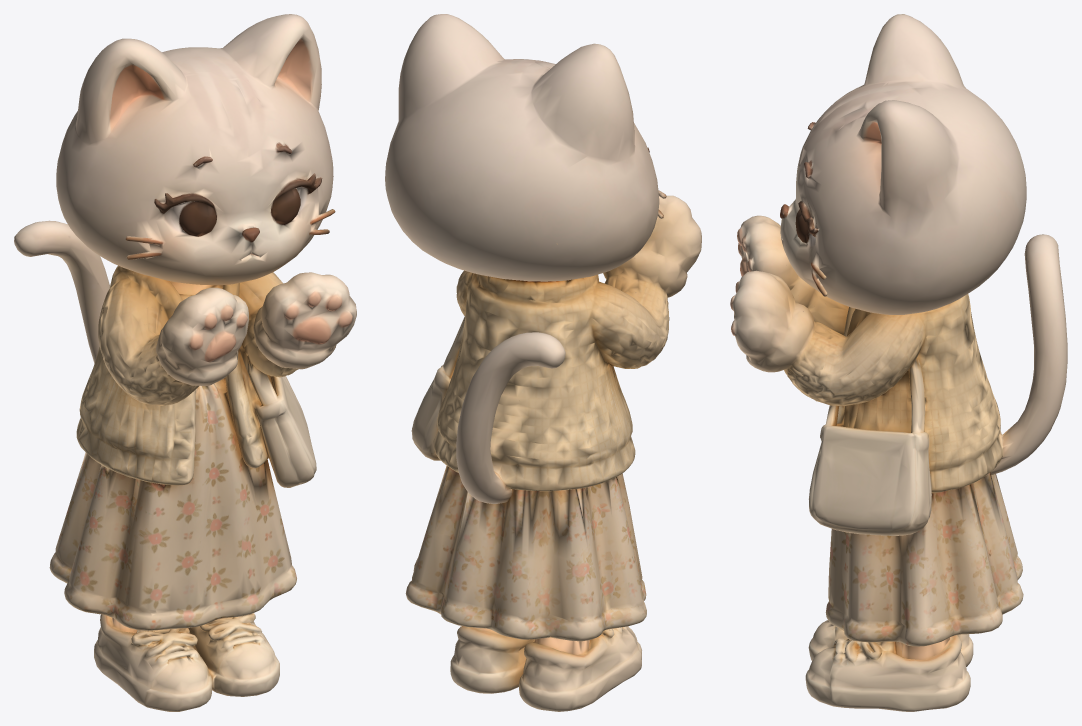
File: figurine-1.glb
3 views of the same model, side by side, from view 1: azimuth 30°, elevation 25°; view 2: azimuth 150°, elevation 25°; view 3: azimuth 270°, elevation 25° (orthographic).
Parts seen in each view (by area): view 1: tripo_node_0ba3c5d6-4391-4fe8-a821-21649a975f2e; view 2: tripo_node_0ba3c5d6-4391-4fe8-a821-21649a975f2e; view 3: tripo_node_0ba3c5d6-4391-4fe8-a821-21649a975f2e.
Boxes of the visible parts, <box> form: tripo_node_0ba3c5d6-4391-4fe8-a821-21649a975f2e: <box>14,14,356,711</box>; tripo_node_0ba3c5d6-4391-4fe8-a821-21649a975f2e: <box>385,14,701,711</box>; tripo_node_0ba3c5d6-4391-4fe8-a821-21649a975f2e: <box>730,14,1067,711</box>.
Size of the model in its own units: 0.3983 by 0.9796 by 0.4711.
1 material, 1 textured.
